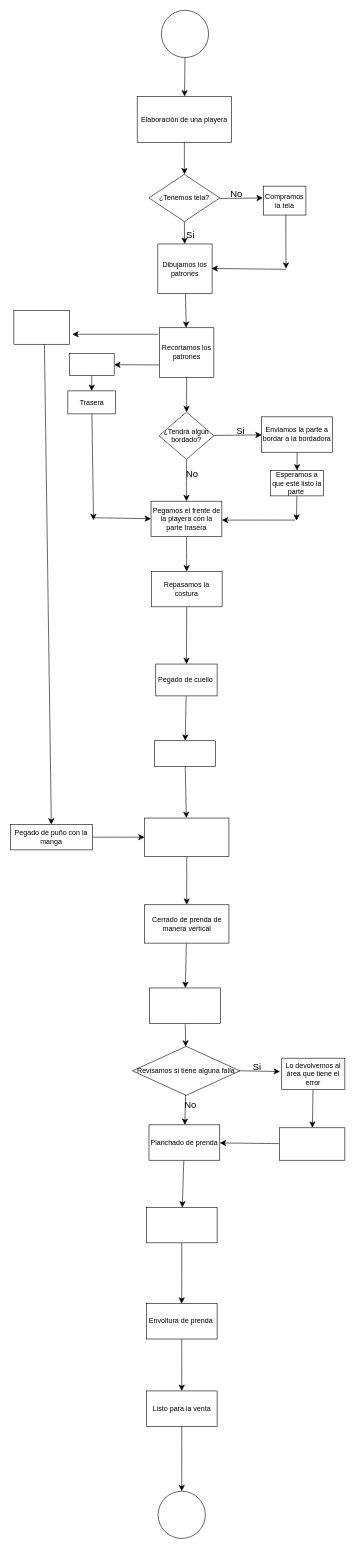
Some shapes in this 355 by 1549 pixel diagram are drawn without their labels. Here are the shapes that lost their labels. From the top down, the box of each, then its label:
(161, 10, 209, 58): Inicio
(13, 310, 69, 344): Mangas
(69, 353, 114, 376): Frente
(154, 740, 216, 767): Costura de repaso de cuello
(144, 817, 229, 856): Pegado de mangas a el cuerpo
(149, 987, 220, 1023): Cerrado de prenda de manera horizontal
(279, 1127, 345, 1160): Se soluciona el error
(146, 1207, 217, 1243): Doblado de prenda
(158, 1491, 205, 1538): Fin
